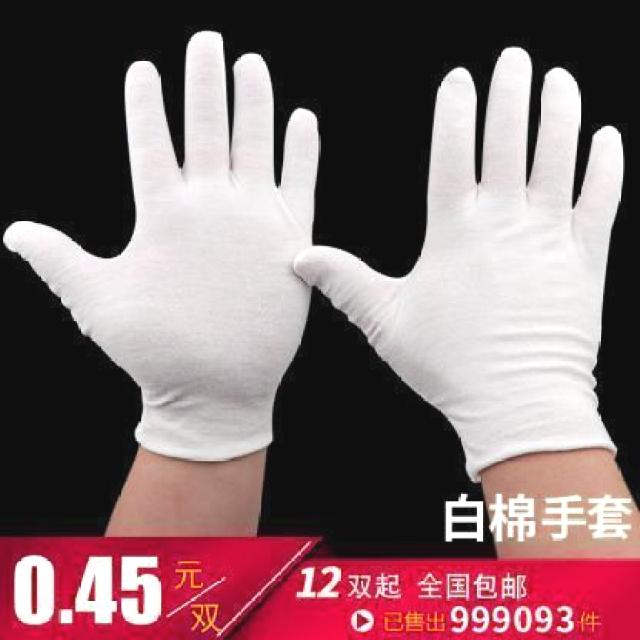hand_glove: (291, 48, 626, 437), (9, 28, 318, 434)
